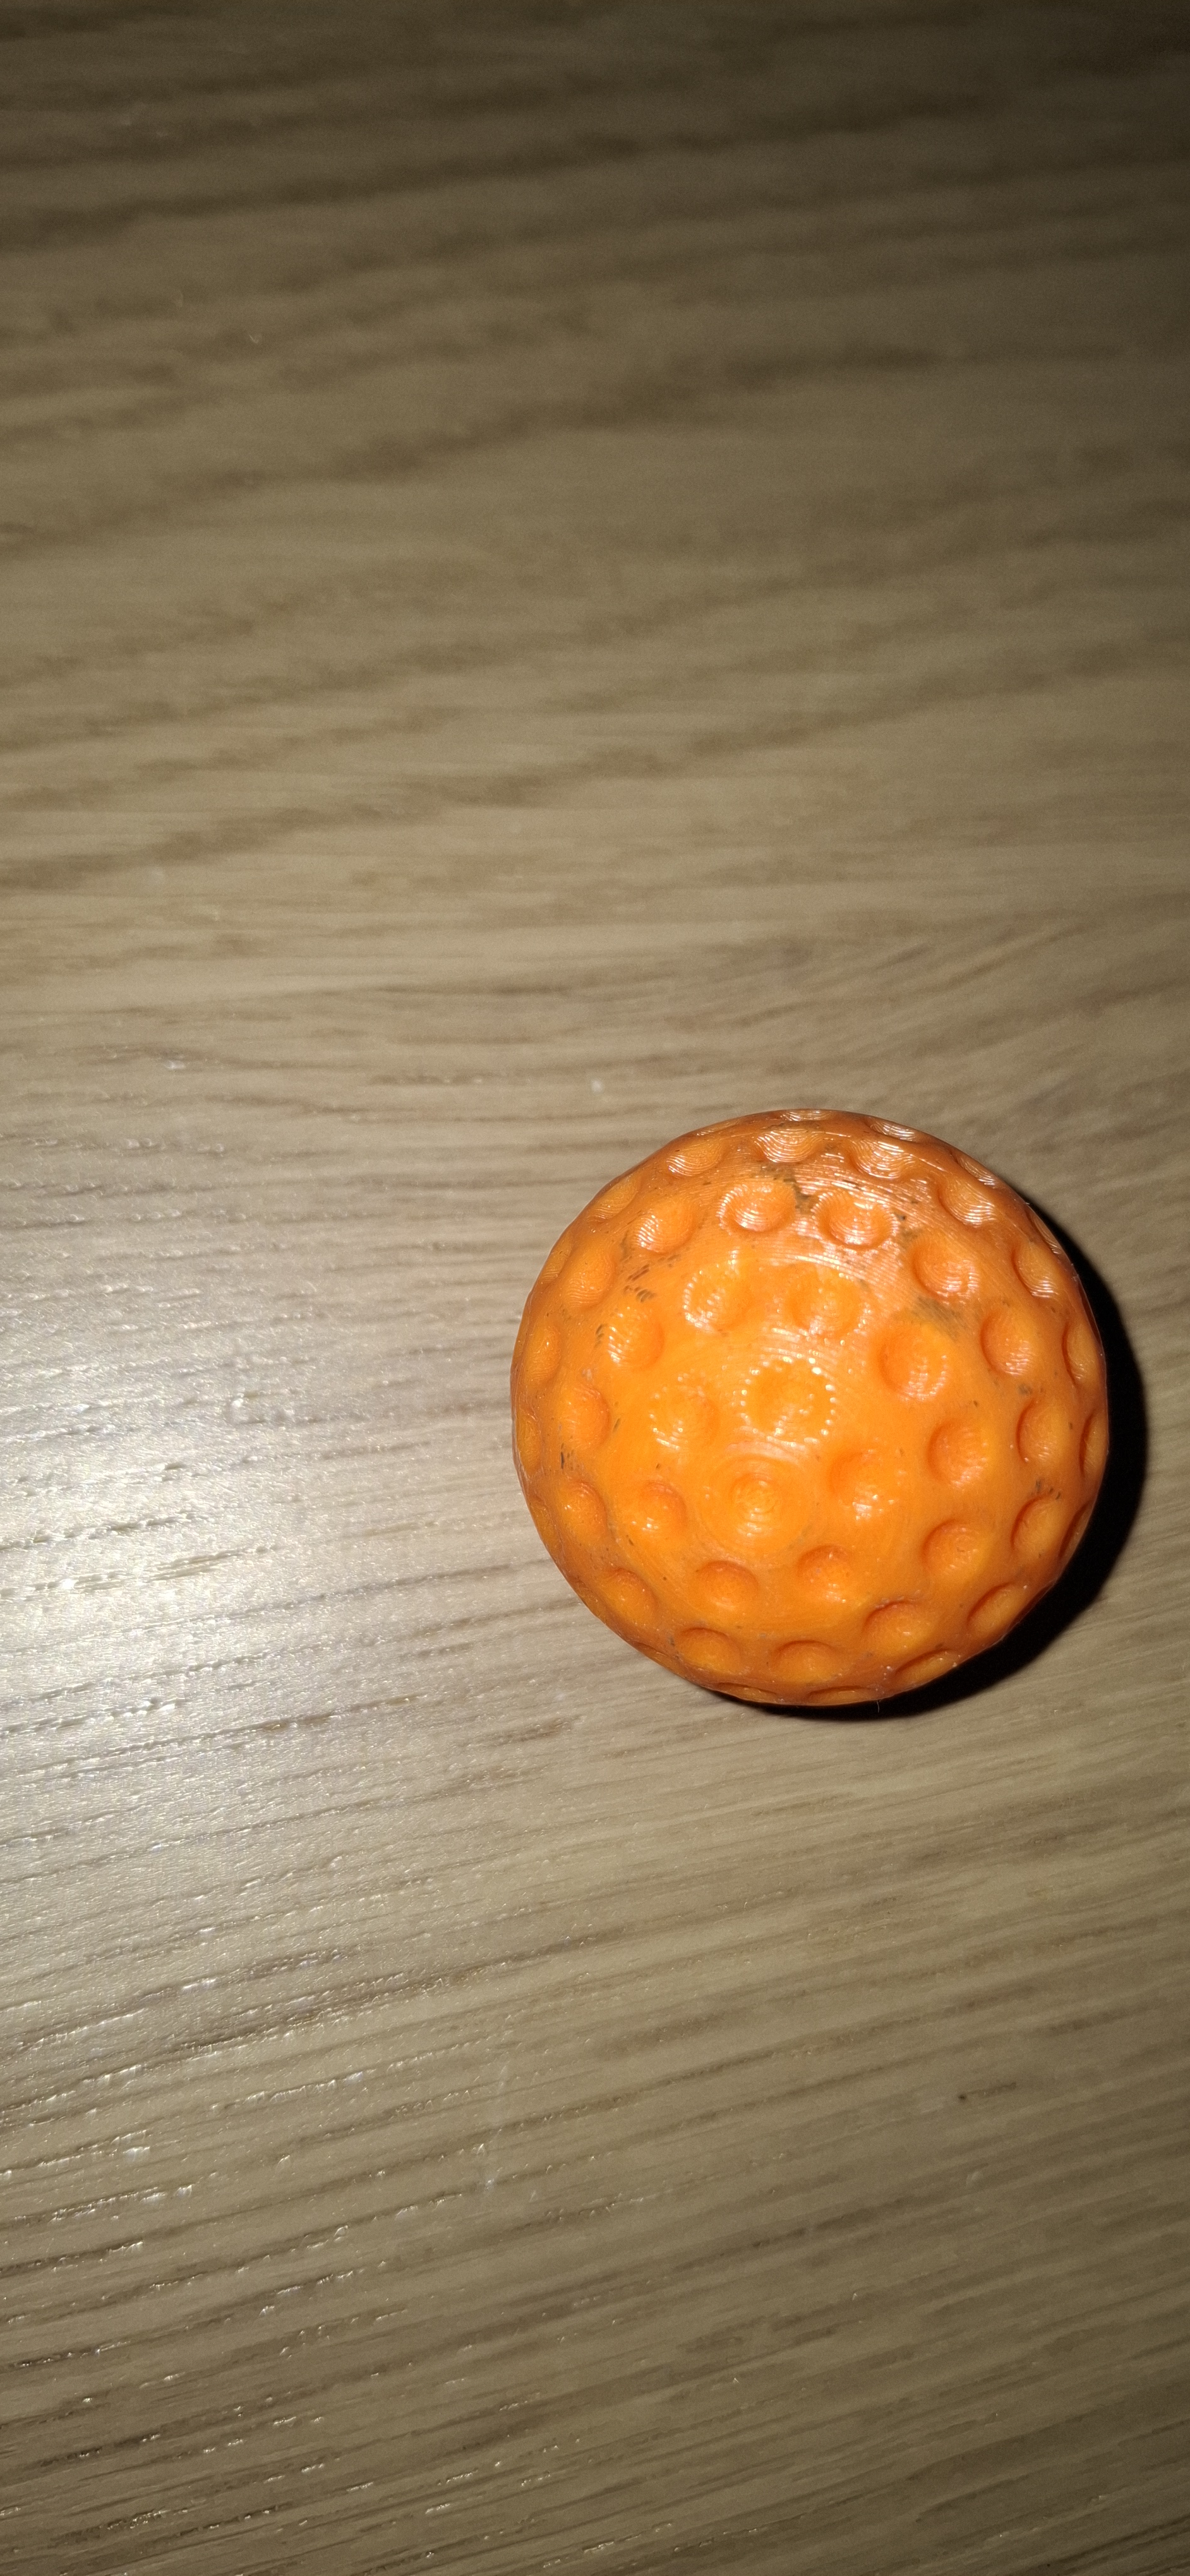ball: (506, 143, 794, 1487)
